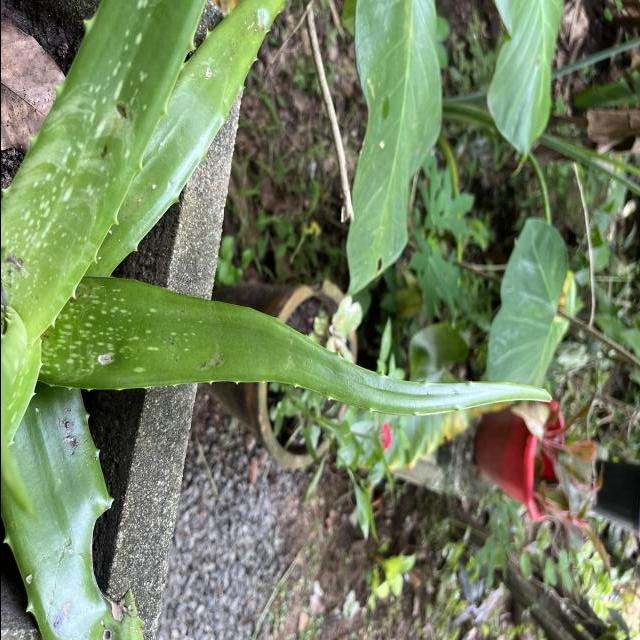Aloe vera: (41, 272, 558, 415)
